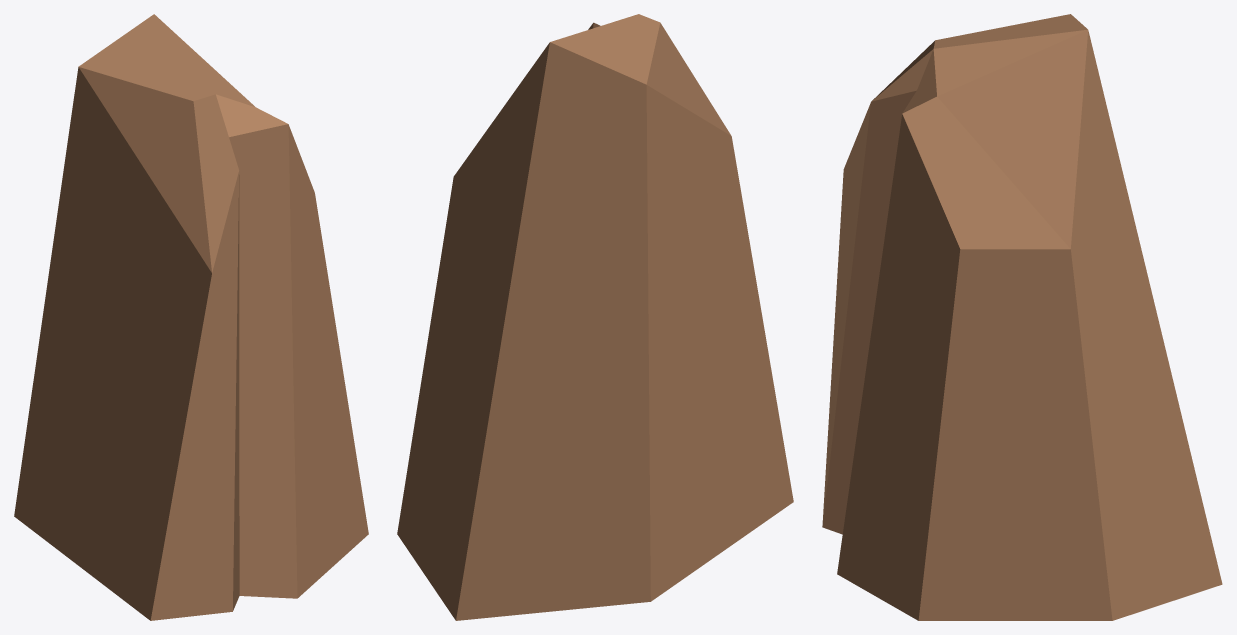
File: Shore_rocks_03.fbx
3 views of the same model, side by side, from view 1: azimuth 30°, elevation 25°; view 2: azimuth 150°, elevation 25°; view 3: azimuth 270°, elevation 25° (orthographic). The views are drawn at different scales.
Parts seen in each view (by area): view 1: shore_rock_03; view 2: shore_rock_03; view 3: shore_rock_03.
Part boxes in pixels (<box>): shore_rock_03: <box>14,14,368,620</box>; shore_rock_03: <box>397,14,793,620</box>; shore_rock_03: <box>822,14,1222,620</box>.
Size of the model in its own units: 318 by 616 by 413.
